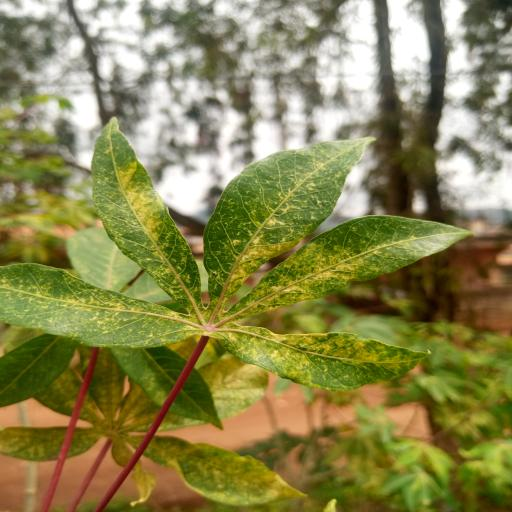Cassava_Mosaic: (2, 114, 485, 400)
